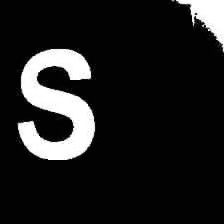LTR_S: (7, 41, 101, 163)
